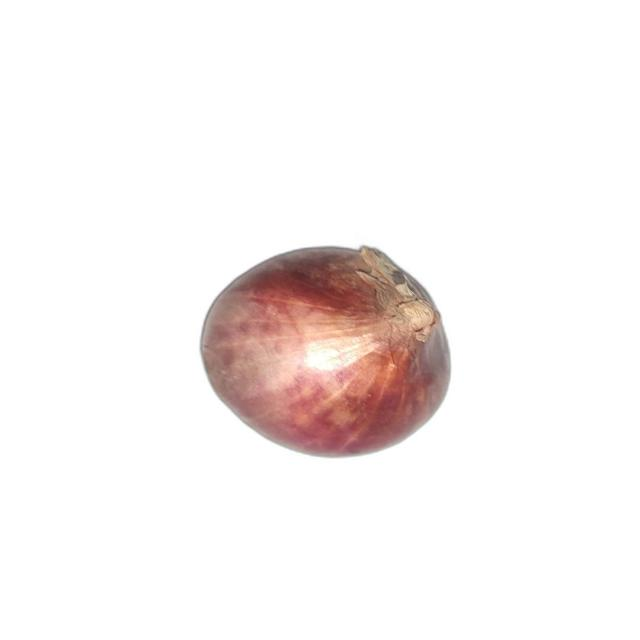onion: (196, 243, 456, 459)
